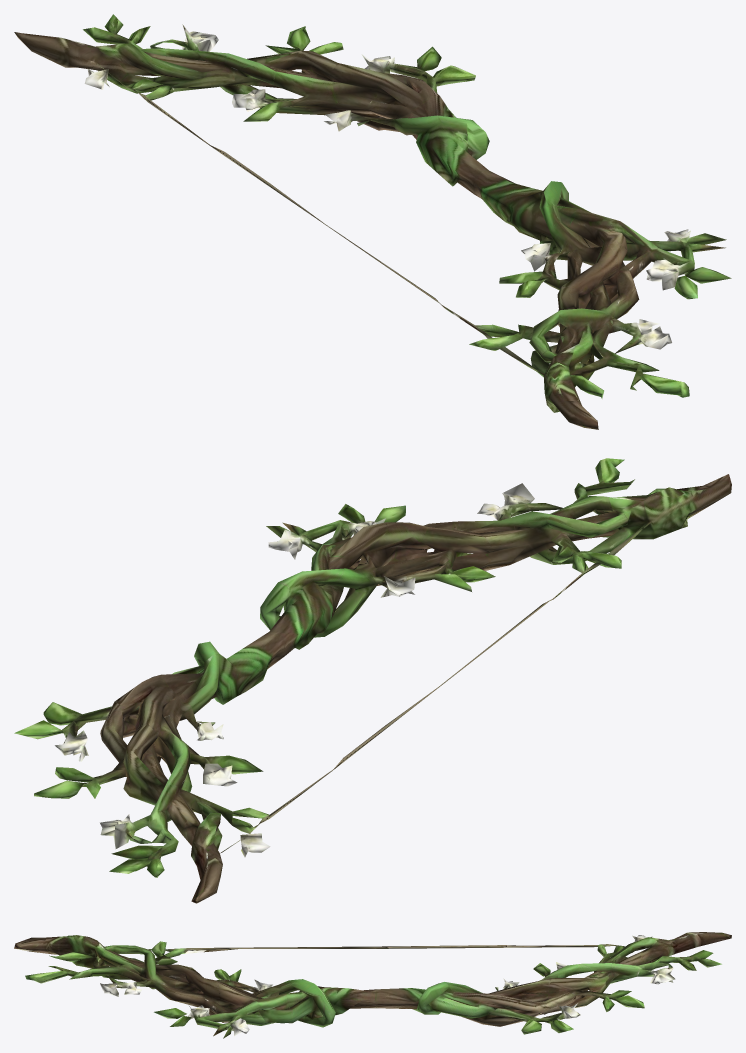
File: 1102_bow.glb
3 views of the same model, one above another, from view 1: azimuth 30°, elevation 25°; view 2: azimuth 150°, elevation 25°; view 3: azimuth 270°, elevation 25° (orthographic). The views are drawn at different scales.
Visible parts, largest first — view 1: Model; view 2: Model; view 3: Model.
Part boxes in pixels (<box>): Model: <box>14,14,731,429</box>; Model: <box>14,458,731,903</box>; Model: <box>14,932,731,1038</box>.
Size of the model in its own units: 0.3422 by 0.0638 by 1.
1 material, 1 textured.
